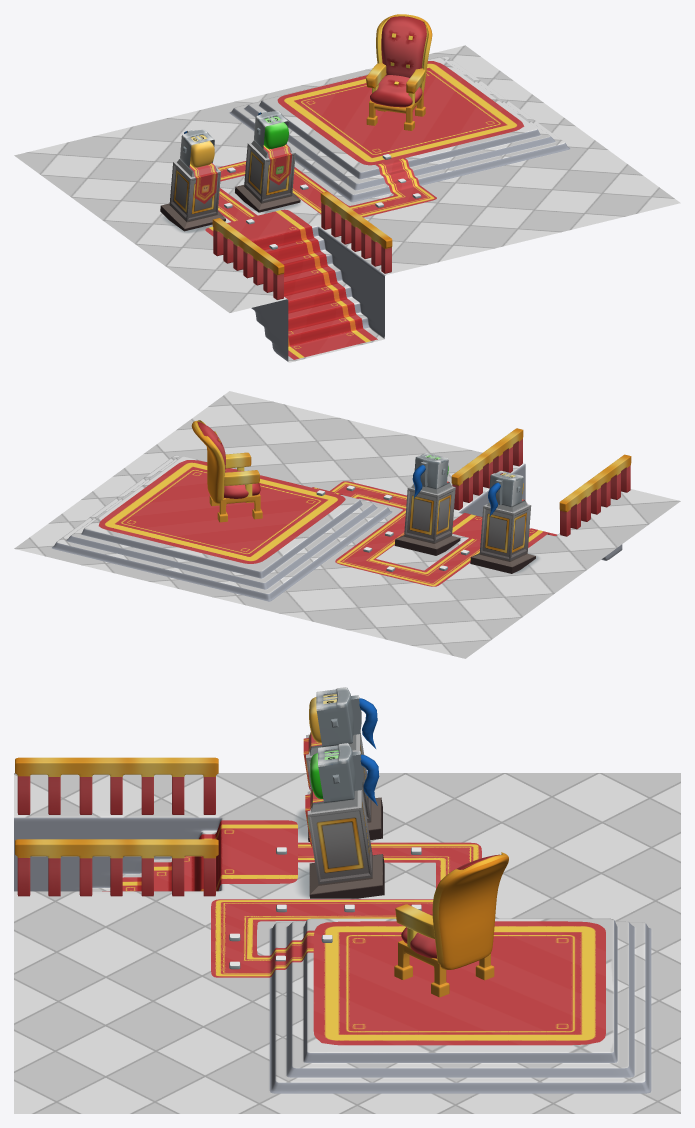
Rendered from ground.fbx.
3 renders of one model, top to bottom at view 1: azimuth 30°, elevation 25°; view 2: azimuth 150°, elevation 25°; view 3: azimuth 270°, elevation 25°, orthographic. The views are drawn at different scales.
Visible parts, largest first — view 1: ground, carpet, carpet_stairs, road, handrail01, handrail02, pillar, pillar1, polySurface4, supoimu (×2), pCube1, pPlane2 (+6 smaller); view 2: ground, carpet, road, pillar1, pillar, handrail02, handrail01, polySurface3, pCube9, armor04, armor, carpet_stairs (+2 smaller); view 3: ground, carpet, road, handrail02, handrail01, carpet_stairs, pillar, polySurface3, armor, armor04, polySurface2, pillar1 (+1 smaller).
Part boxes in pixels (box(x1,y1,x2,y2)): ground: box(14, 45, 680, 362); carpet: box(277, 61, 524, 165); carpet_stairs: box(205, 209, 377, 359); road: box(217, 158, 436, 221); handrail01: box(320, 191, 392, 273); handrail02: box(212, 218, 284, 299); pillar: box(235, 140, 300, 212); pillar1: box(160, 159, 225, 231); polySurface4: box(381, 16, 426, 77); supoimu (×2): box(190, 116, 288, 167); pCube1: box(370, 75, 422, 107); pPlane2: box(189, 163, 217, 203); ground: box(14, 391, 680, 658); carpet: box(98, 460, 345, 563); road: box(312, 481, 480, 586); pillar1: box(470, 500, 535, 573); pillar: box(394, 482, 460, 555); handrail02: box(559, 454, 631, 536); handrail01: box(451, 428, 523, 510); polySurface3: box(191, 420, 225, 503); pCube9: box(224, 452, 259, 496); armor04: box(414, 453, 448, 488); armor: box(488, 470, 523, 506); carpet_stairs: box(452, 513, 557, 547); ground: box(14, 773, 680, 1113); carpet: box(313, 921, 605, 1045); road: box(211, 842, 481, 977); handrail02: box(15, 757, 218, 814); handrail01: box(15, 839, 218, 896); carpet_stairs: box(102, 820, 297, 891); pillar: box(307, 788, 384, 898); polySurface3: box(432, 852, 508, 969); armor: box(316, 687, 361, 747); armor04: box(318, 743, 363, 803); polySurface2: box(394, 940, 494, 997); pillar1: box(306, 733, 382, 841).
Bounding box in the file's own units: 25.36 × 9.12 × 20.97.
